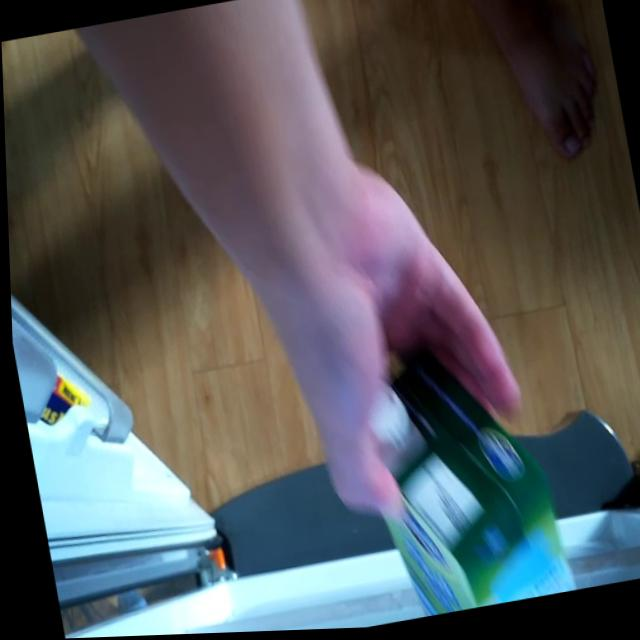milk: (352, 339, 568, 625)
